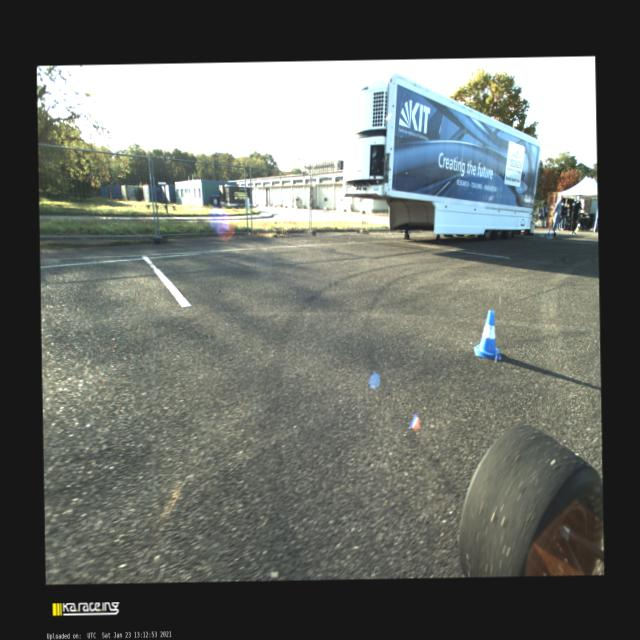blue_cone: (472, 308, 502, 361)
